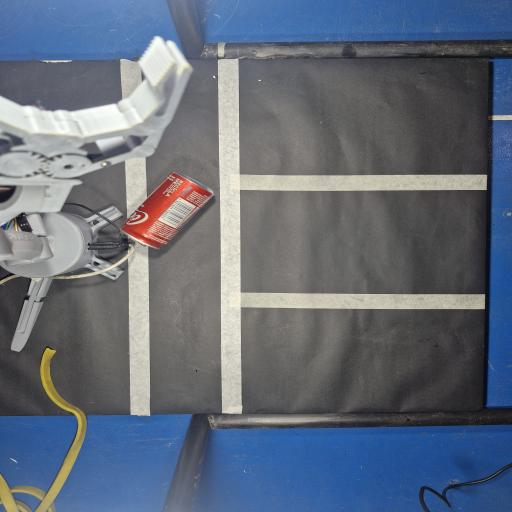lata: (122, 172, 213, 249)
